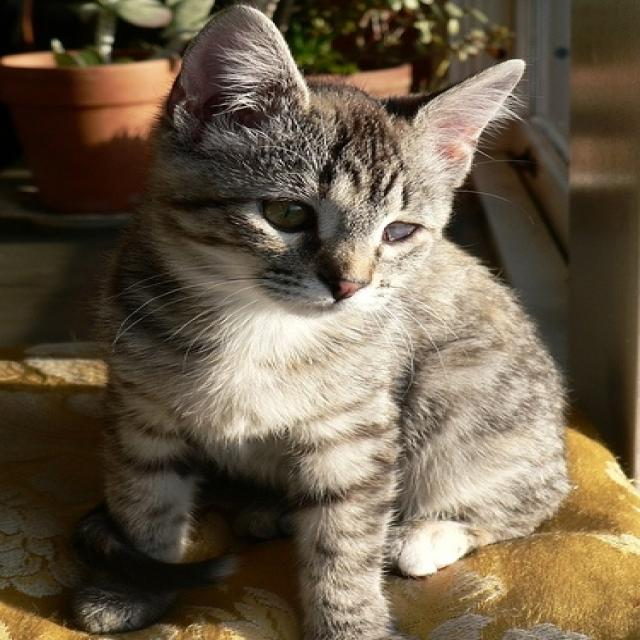cat: (66, 2, 574, 638)
